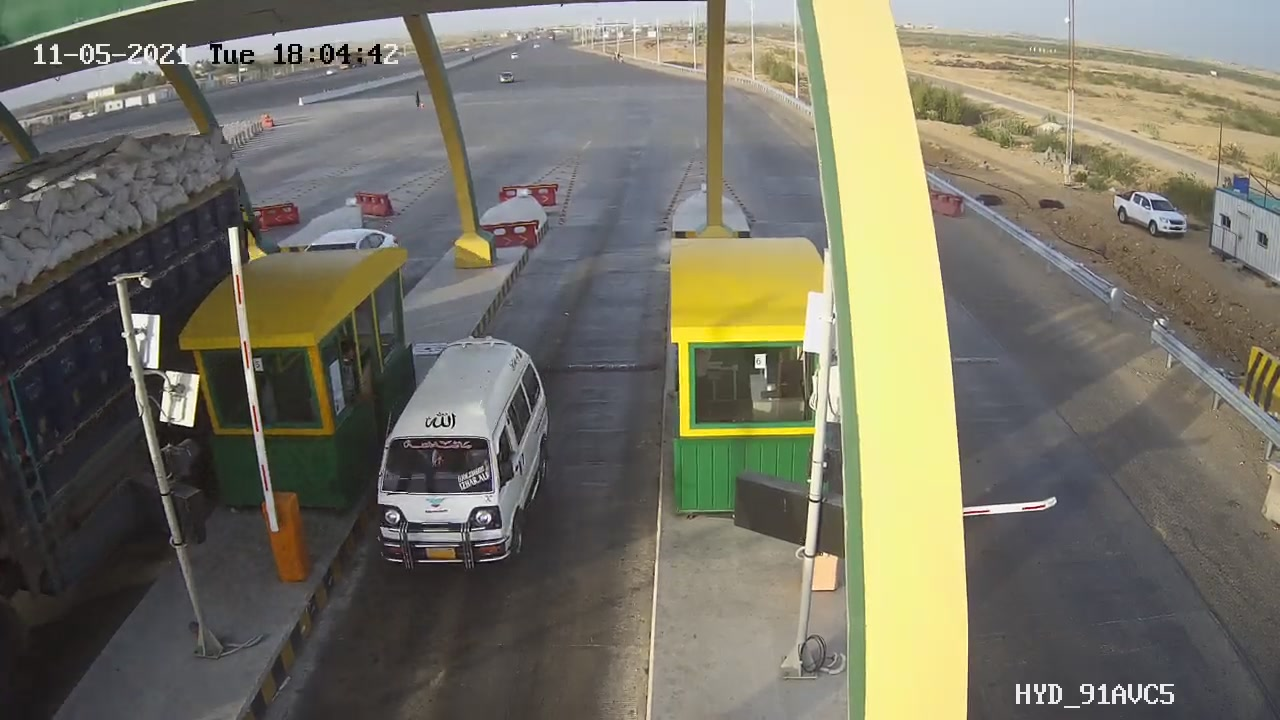F1: (357, 324, 578, 592)
